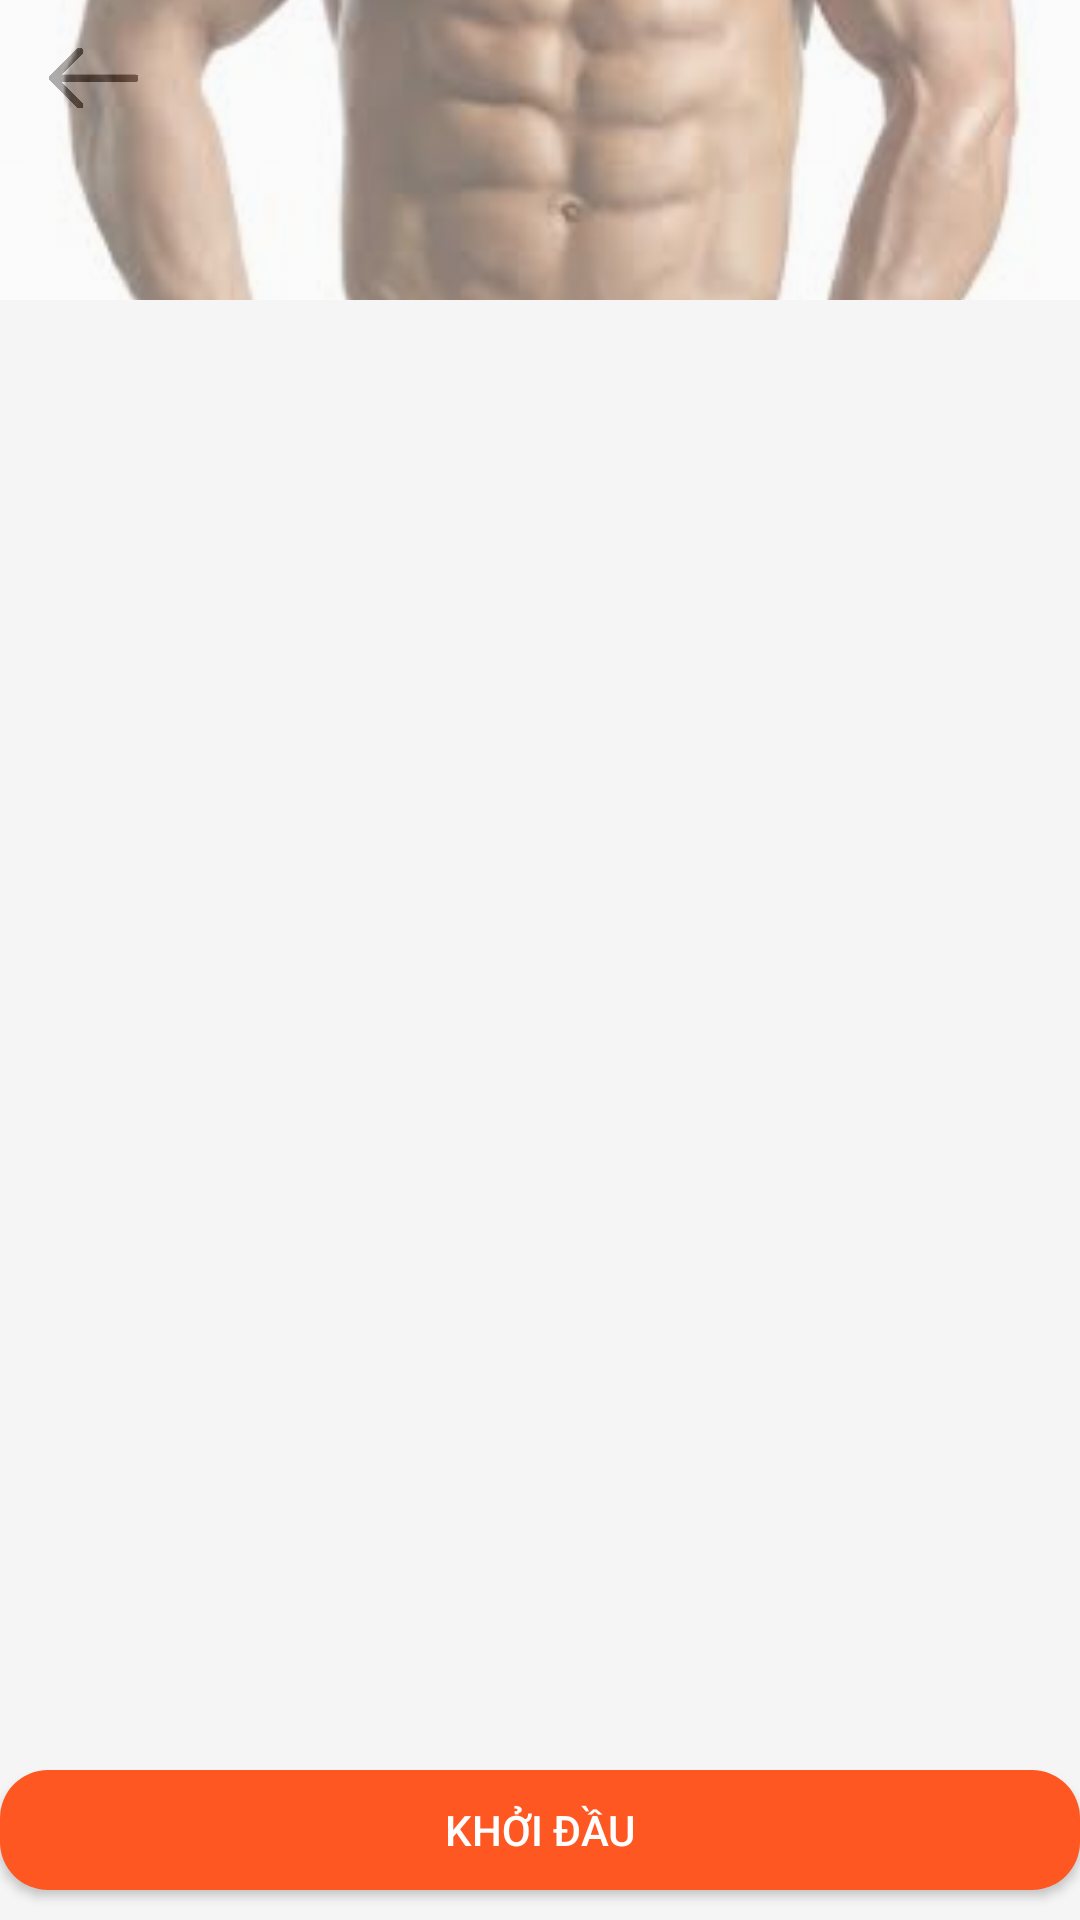

Where to tap for icons on this 1080px x 1920px app screen, as point (x, y):
Back Button: point (93, 78)
